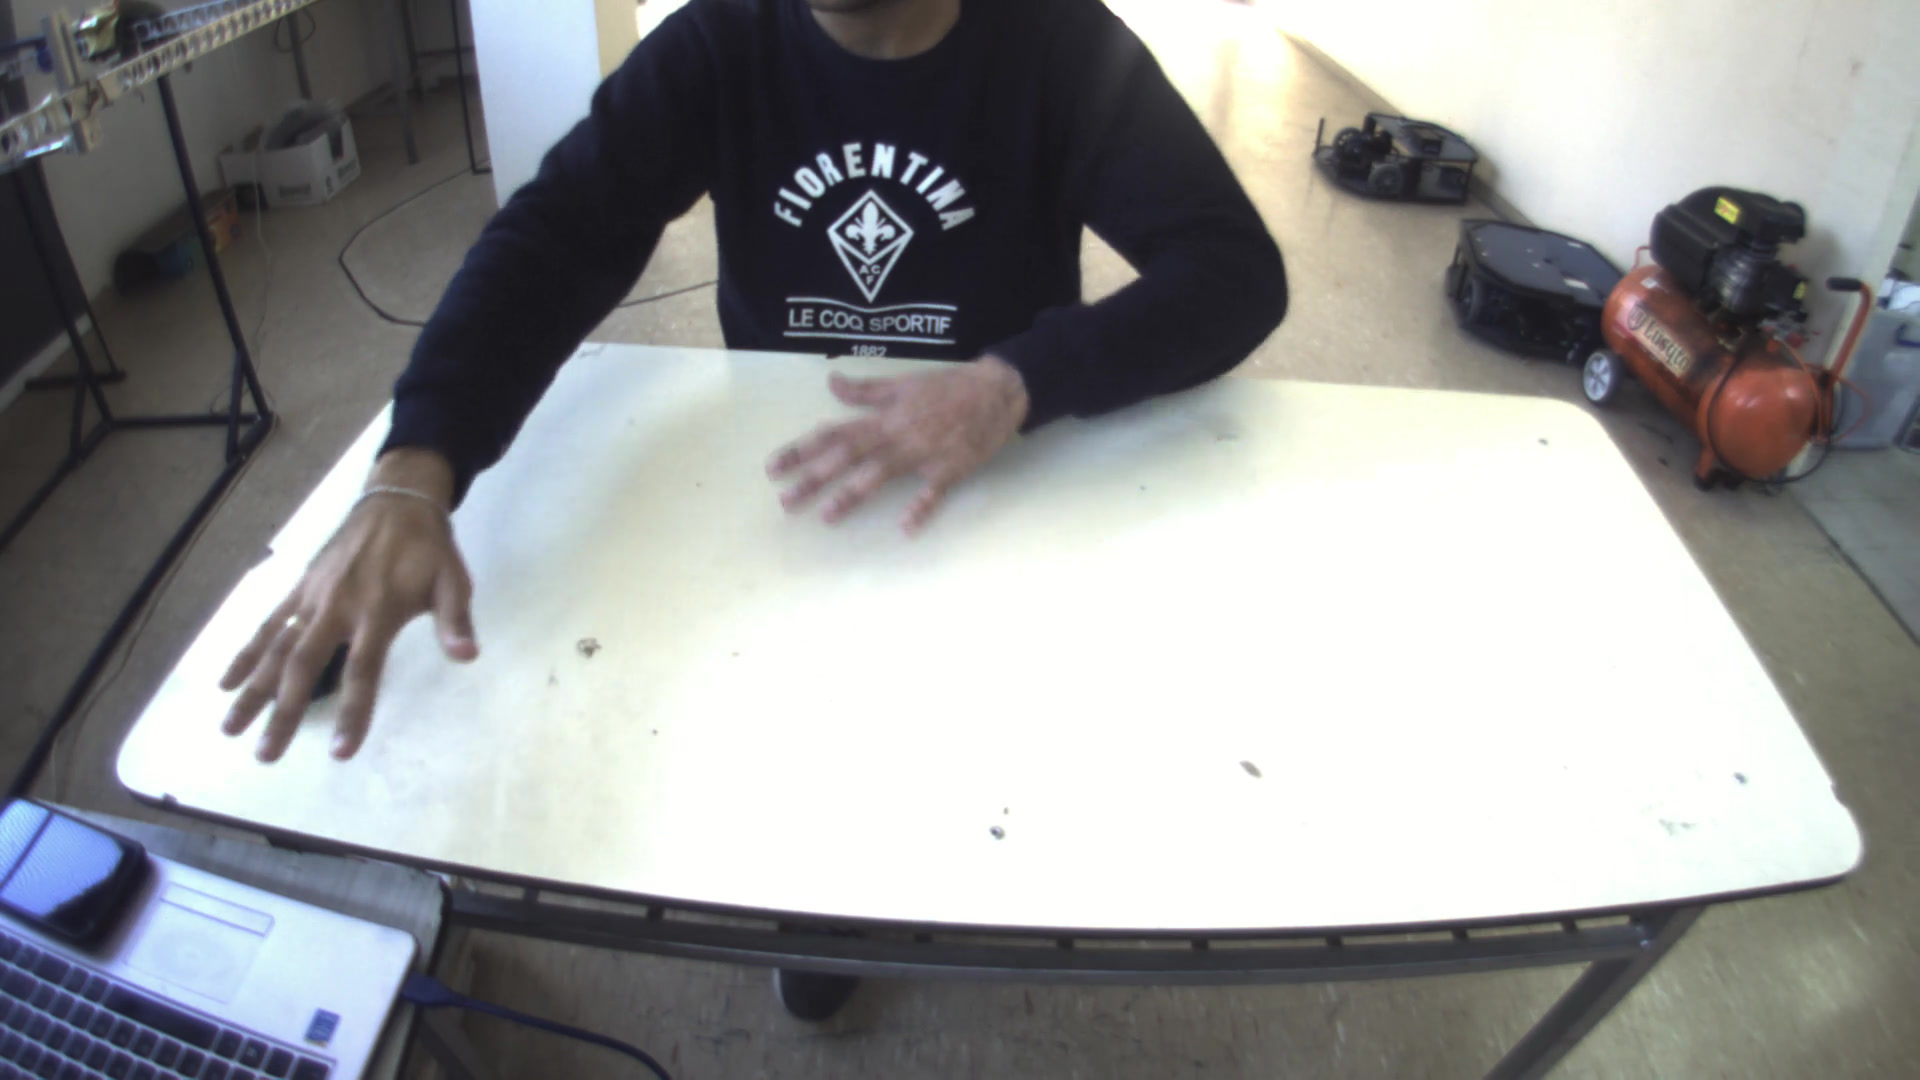hand: (200, 463, 480, 778), (750, 345, 1029, 535)
